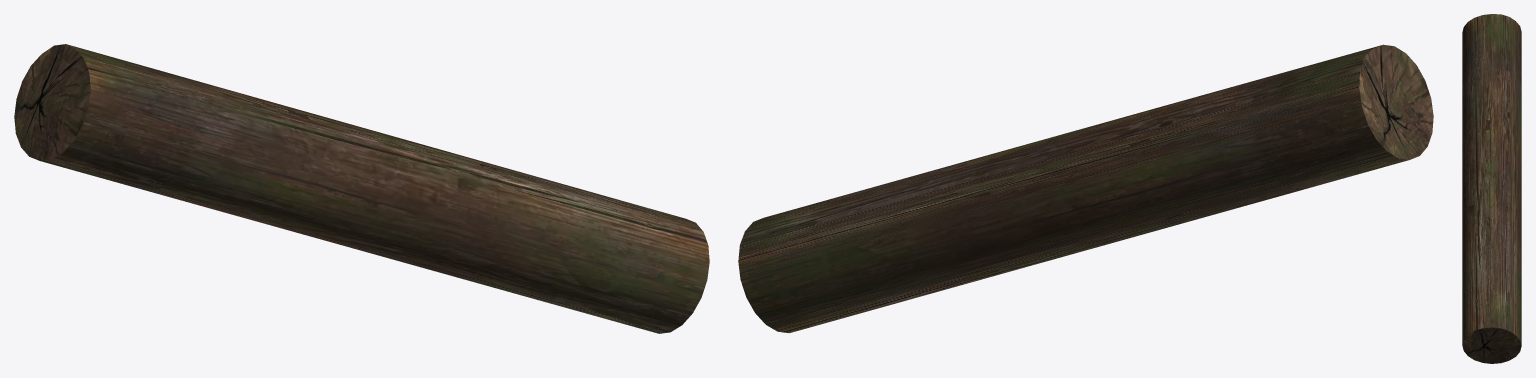
The picture shows the model from 3 angles, left to right: view 1: azimuth 30°, elevation 25°; view 2: azimuth 150°, elevation 25°; view 3: azimuth 270°, elevation 25°; orthographic projection. The views are drawn at different scales.
Visible parts, largest first — view 1: SM_BB_T1_Beam_Thin_Med_Shallow_LOD0; view 2: SM_BB_T1_Beam_Thin_Med_Shallow_LOD0; view 3: SM_BB_T1_Beam_Thin_Med_Shallow_LOD0.
Boxes of the visible parts, x1=… form: SM_BB_T1_Beam_Thin_Med_Shallow_LOD0: x1=14, y1=44, x2=709, y2=333; SM_BB_T1_Beam_Thin_Med_Shallow_LOD0: x1=738, y1=44, x2=1433, y2=333; SM_BB_T1_Beam_Thin_Med_Shallow_LOD0: x1=1462, y1=14, x2=1521, y2=363.
Size of the model in its own units: 1.61 by 0.9716 by 0.2488.
Materials: 1 (1 with a texture image).
